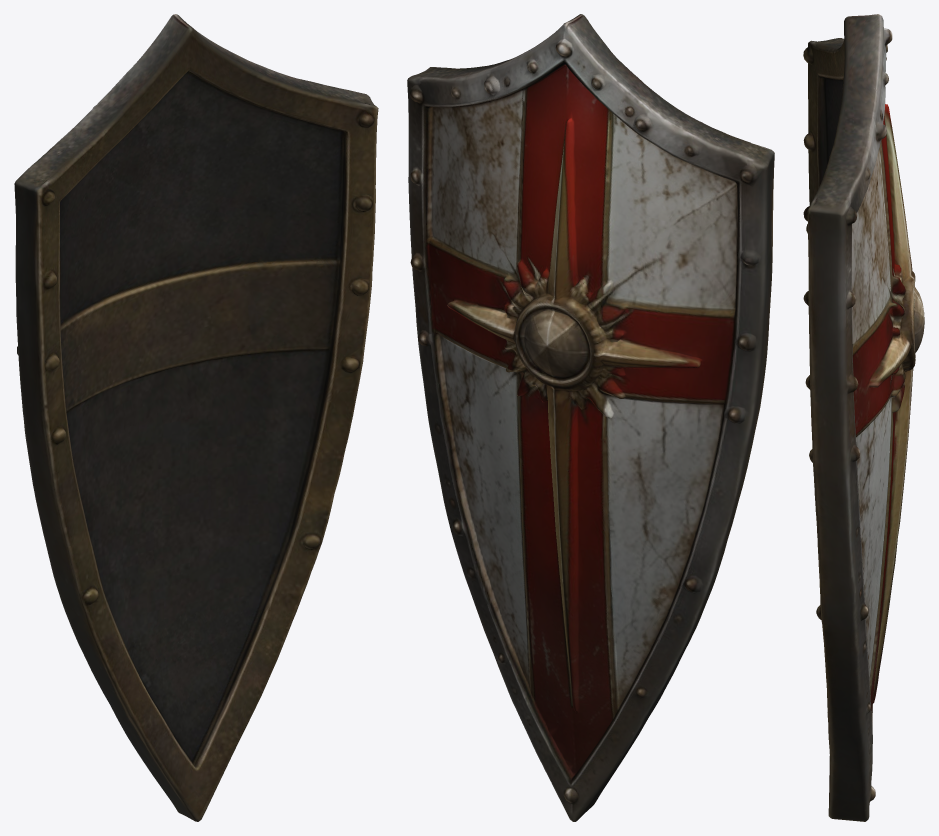
Rendered from kite_sun_cross.glb.
3 renders of one model, left to right at view 1: azimuth 30°, elevation 25°; view 2: azimuth 150°, elevation 25°; view 3: azimuth 270°, elevation 25°, orthographic.
Parts seen in each view (by area): view 1: kite_sun_cross; view 2: kite_sun_cross; view 3: kite_sun_cross.
Part boxes in pixels (left/top/right/bottom): kite_sun_cross: left=14, top=14, right=378, bottom=821; kite_sun_cross: left=407, top=14, right=774, bottom=821; kite_sun_cross: left=803, top=14, right=924, bottom=821.
Bounding box in the file's own units: 0.3927 × 0.8403 × 0.1144.
Materials: 1 (1 with a texture image).
